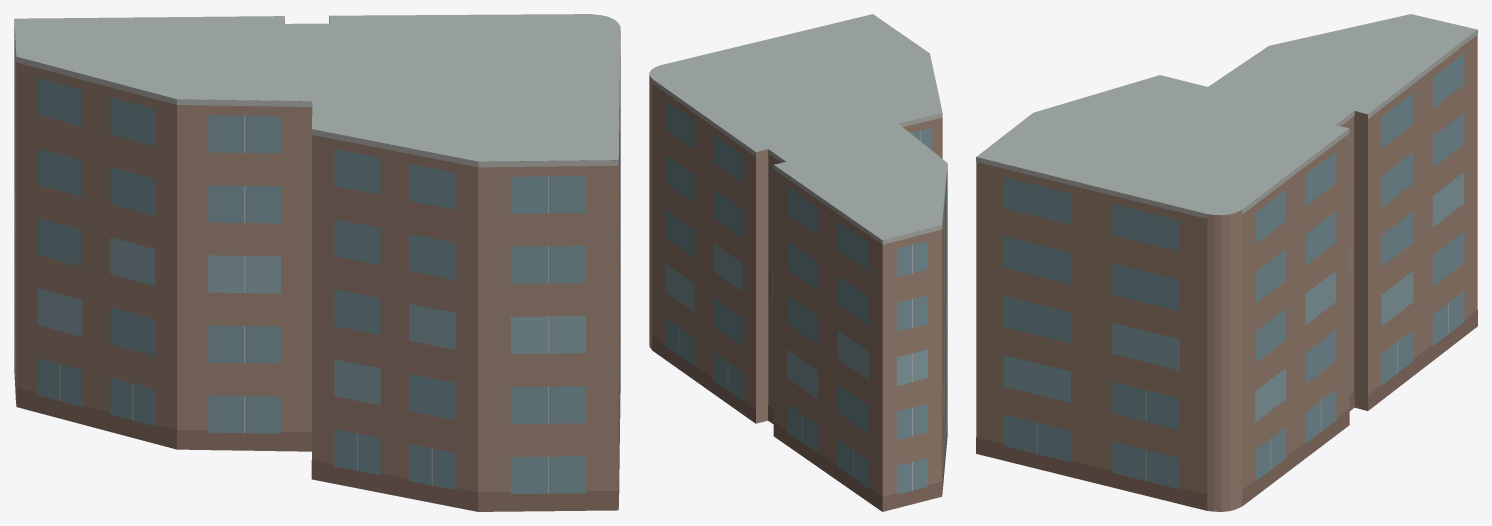
The model's file is survey-upis-32827819.glb.
The picture shows the model from 3 angles, left to right: view 1: azimuth 30°, elevation 25°; view 2: azimuth 150°, elevation 25°; view 3: azimuth 270°, elevation 25°; orthographic projection. The views are drawn at different scales.
Visible parts, largest first — view 1: survey-upis-32827819.tmp; view 2: survey-upis-32827819.tmp; view 3: survey-upis-32827819.tmp.
Part boxes in pixels (x1,y1,x2,y2): survey-upis-32827819.tmp: (14,14,620,511); survey-upis-32827819.tmp: (649,14,947,511); survey-upis-32827819.tmp: (976,14,1477,511).
Size of the model in its own units: 21.52 by 14.8 by 22.68.
